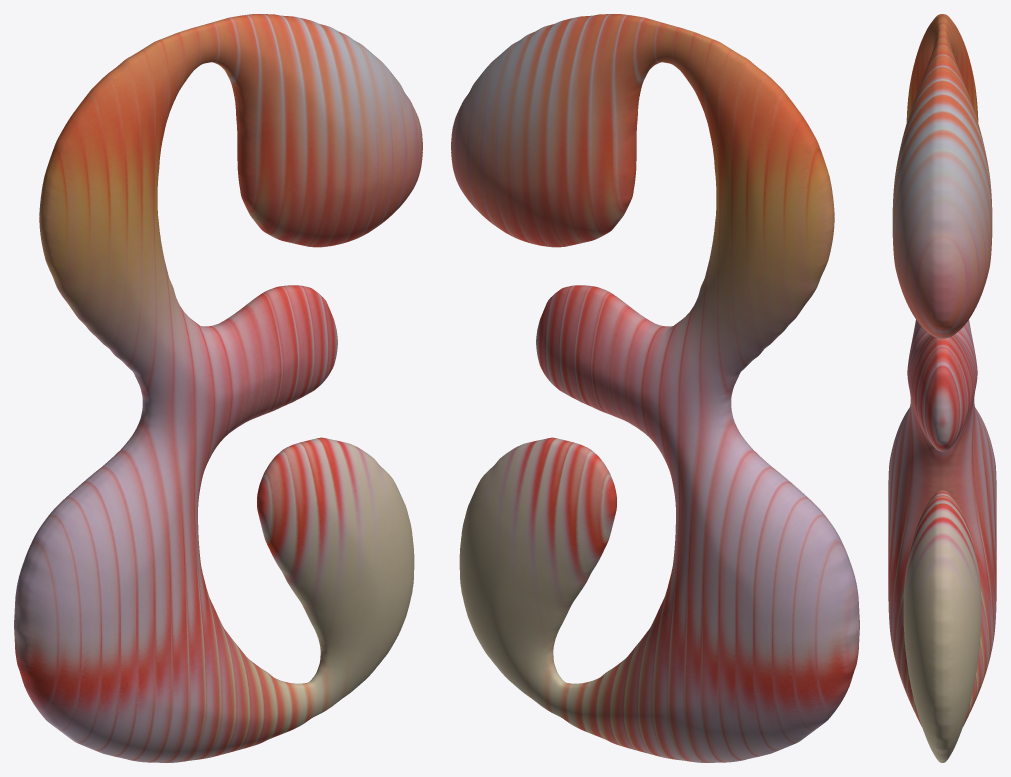
The model's file is letterE.glb.
3 views of the same model, side by side, from view 1: azimuth 30°, elevation 25°; view 2: azimuth 150°, elevation 25°; view 3: azimuth 270°, elevation 25° (orthographic). The views are drawn at different scales.
Visible parts, largest first — view 1: Geometry; view 2: Geometry; view 3: Geometry.
Boxes of the visible parts, box(x1,y1,x2,y2) form: Geometry: box(14, 14, 422, 762); Geometry: box(451, 14, 859, 762); Geometry: box(888, 14, 996, 762).
Size of the model in its own units: 0.5742 by 1 by 0.1427.
1 material, 1 textured.
